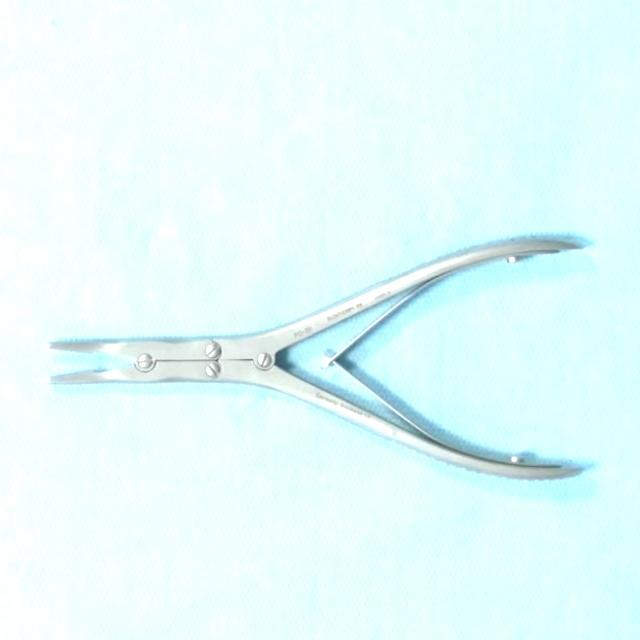gubia: (48, 234, 596, 483)
